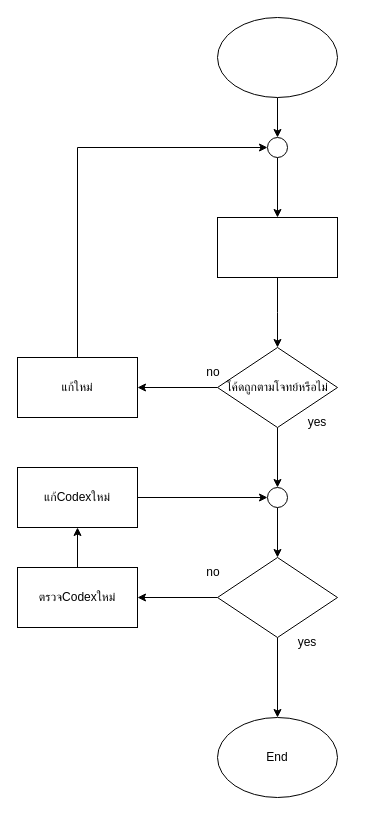
Image size: 365x815. Some labels were removed from this diagram. Here are the shapes that lost their labels. From the top down, the centre of each, then its label:
At [277,57]: "Start".
At [277,247]: "เขียนโค้ด".
At [277,597]: "codexถูกไหม".
